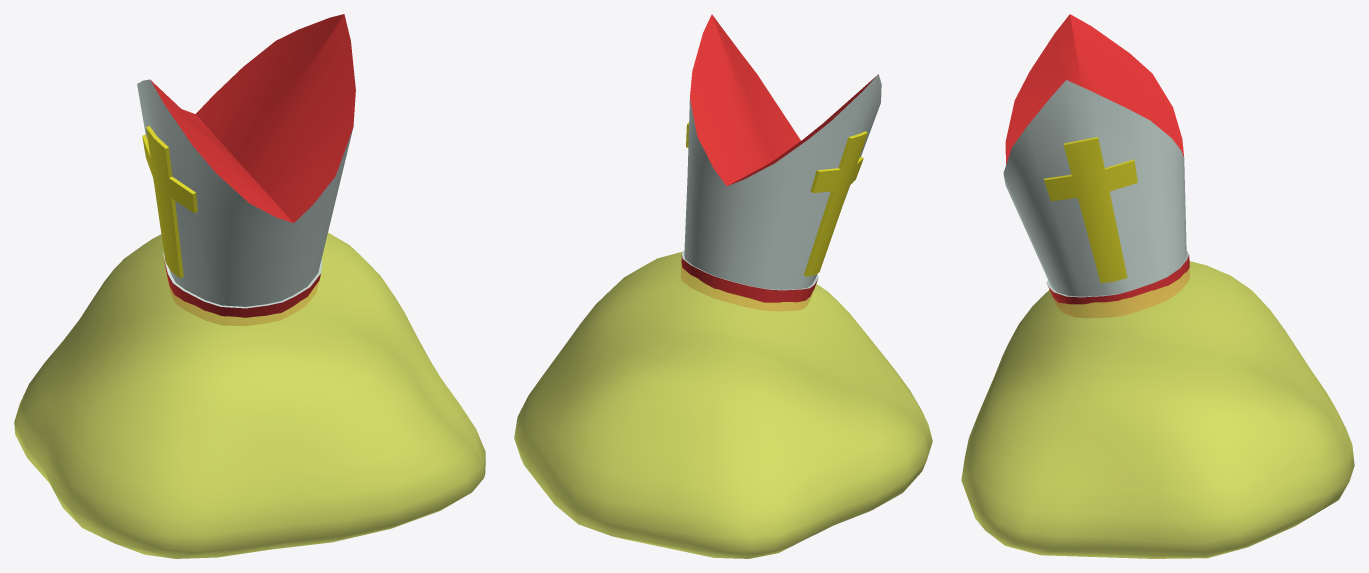
File: slime_bishop_darren.fbx
3 renders of one model, left to right at view 1: azimuth 30°, elevation 25°; view 2: azimuth 150°, elevation 25°; view 3: azimuth 270°, elevation 25°, orthographic. The views are drawn at different scales.
Parts seen in each view (by area): view 1: Cube, Cylinder; view 2: Cube, Cylinder; view 3: Cube, Cylinder.
Part boxes in pixels (box(x1,y1,x2,y2)): Cube: box(14, 232, 485, 558); Cylinder: box(137, 14, 355, 325); Cube: box(514, 251, 932, 558); Cylinder: box(681, 14, 881, 310); Cube: box(961, 261, 1354, 558); Cylinder: box(1003, 14, 1189, 317).
Bounding box in the file's own units: 223 × 271 × 218.
